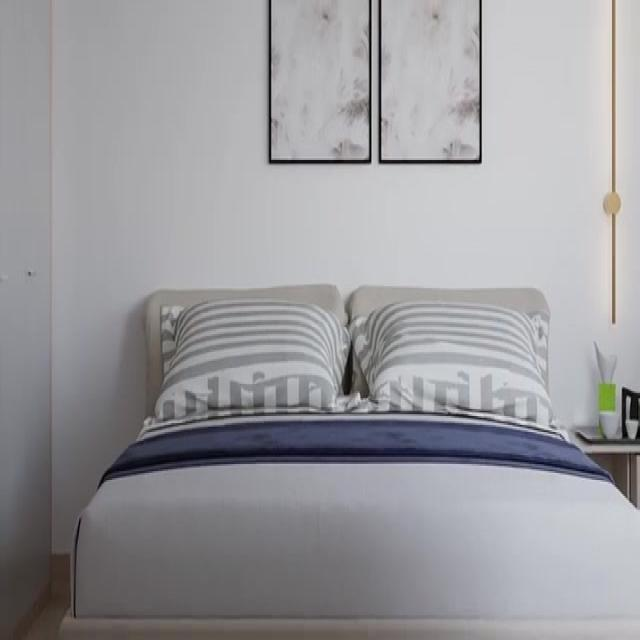obstacle: (58, 281, 639, 638)
